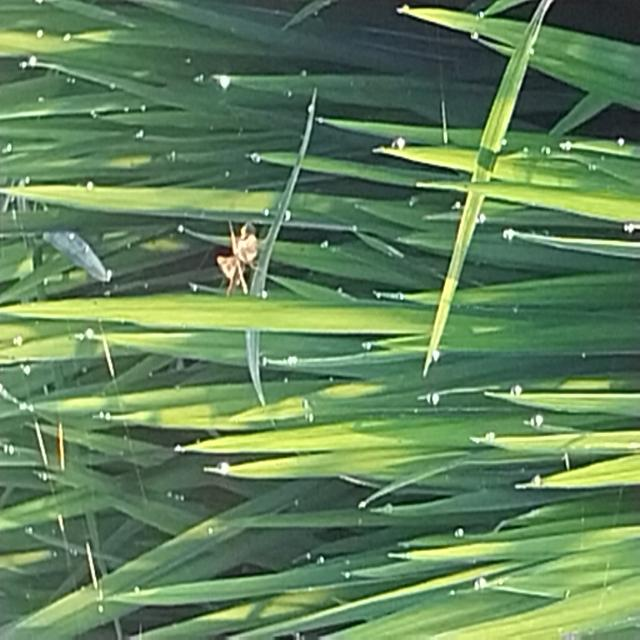green leaf hopper: (200, 198, 274, 313)
